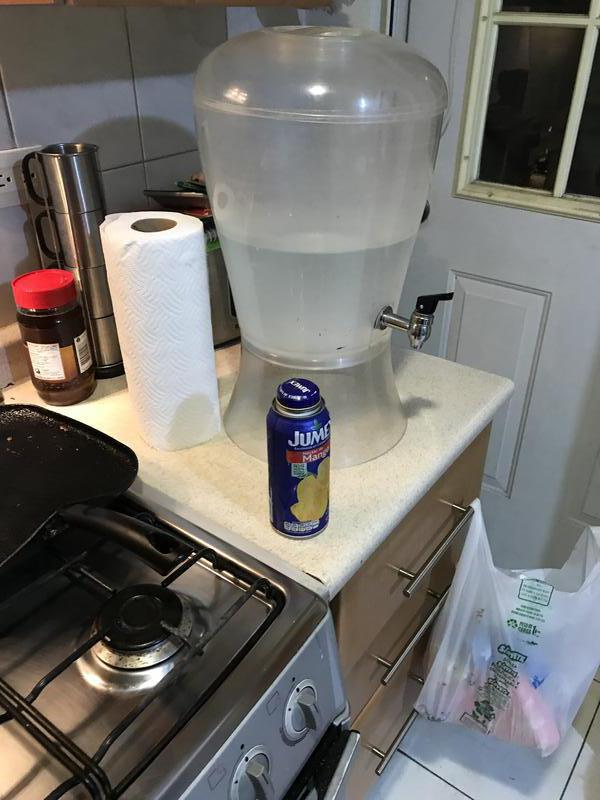jugo_jumex: (261, 378, 340, 542)
